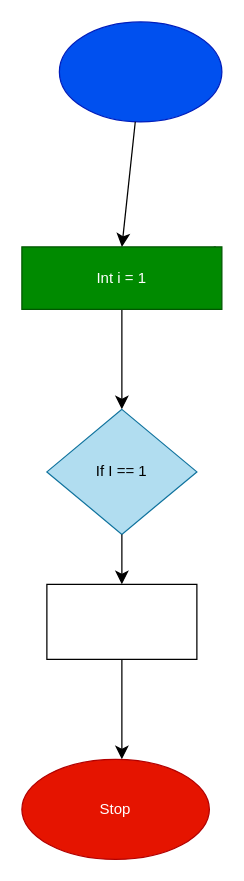
Some shapes in this 244 by 881 pixel diagram are drawn without their labels. Each missing label, with the centre of its shape:
"Print(one)" goes at point (121, 621).
"Start" goes at point (140, 71).
